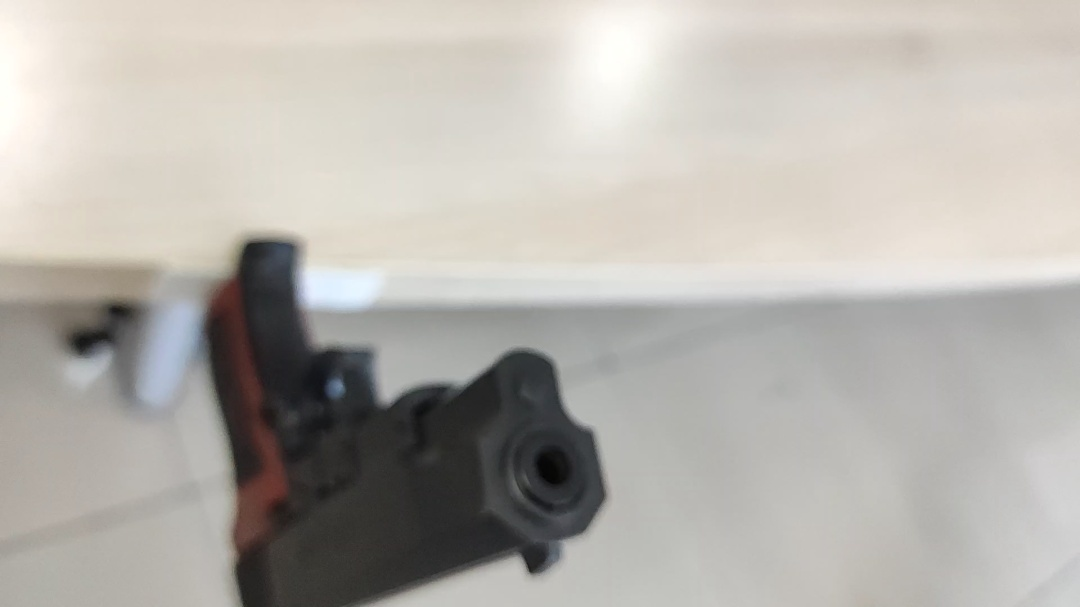gun: (202, 245, 608, 607)
